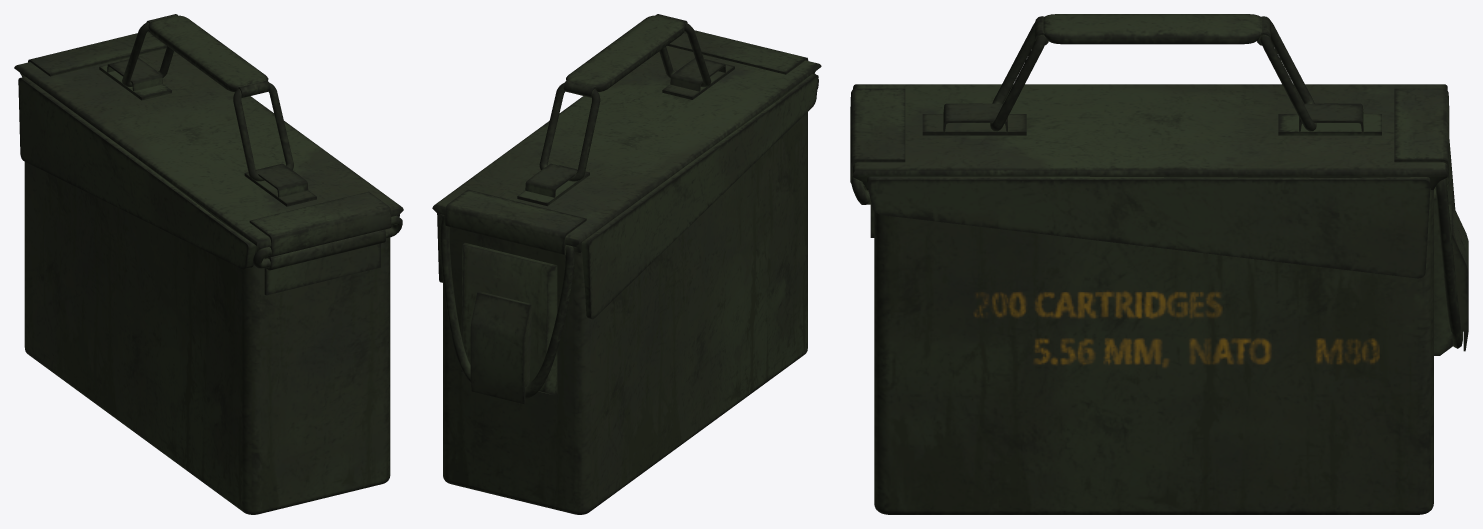
File: AmmoCase.fbx
The picture shows the model from 3 angles, left to right: view 1: azimuth 30°, elevation 25°; view 2: azimuth 150°, elevation 25°; view 3: azimuth 270°, elevation 25°; orthographic projection. The views are drawn at different scales.
Parts seen in each view (by area): view 1: Plane; view 2: Plane; view 3: Plane.
Part boxes in pixels (<box>): Plane: <box>14,14,403,514</box>; Plane: <box>432,14,821,514</box>; Plane: <box>850,14,1468,514</box>.
Bounding box in the file's own units: 150 × 346 × 430.
